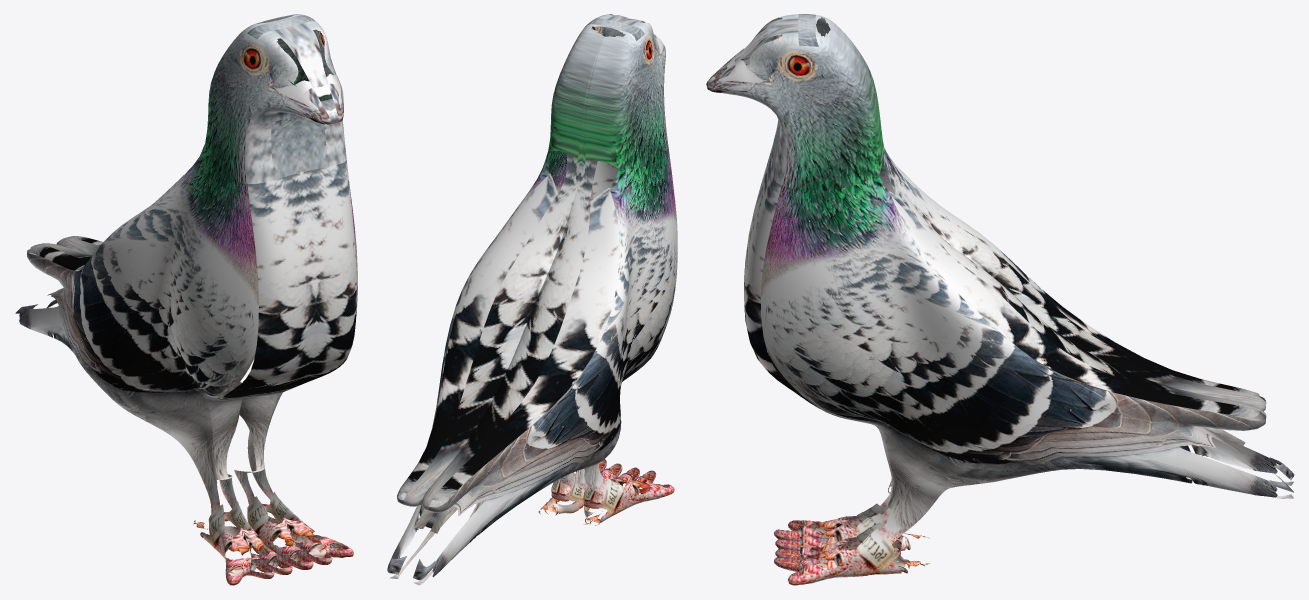
File: Bird.obj
3 views of the same model, side by side, from view 1: azimuth 30°, elevation 25°; view 2: azimuth 150°, elevation 25°; view 3: azimuth 270°, elevation 25° (orthographic). The views are drawn at different scales.
Parts seen in each view (by area): view 1: bIRD_Cube; view 2: bIRD_Cube; view 3: bIRD_Cube.
Boxes of the visible parts, left/top/right/bottom form: bIRD_Cube: left=15, top=14, right=357, bottom=585; bIRD_Cube: left=387, top=14, right=677, bottom=585; bIRD_Cube: left=706, top=14, right=1294, bottom=585.
Bounding box in the file's own units: 0.2759 × 0.7902 × 0.782.
